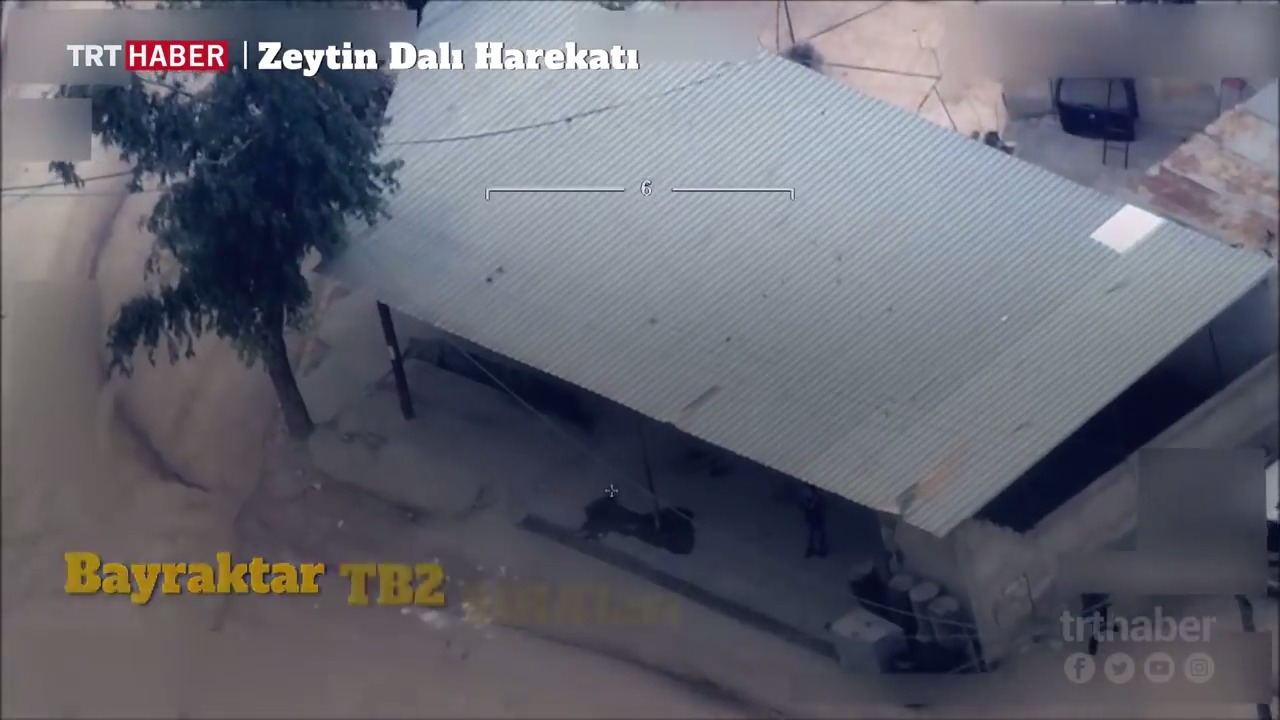insan: (794, 472, 840, 562)
